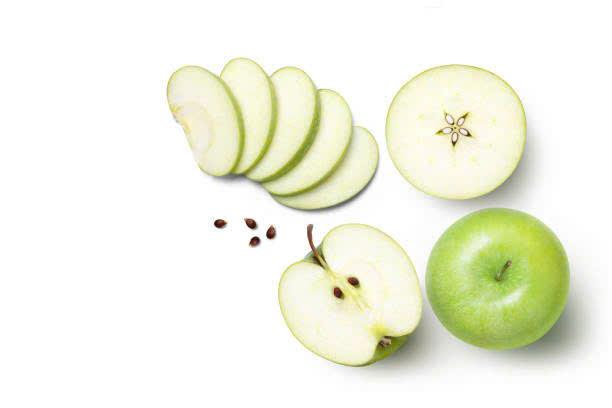apple: (421, 211, 580, 359), (235, 57, 380, 216), (268, 225, 425, 367), (389, 63, 531, 195), (152, 62, 242, 182)
